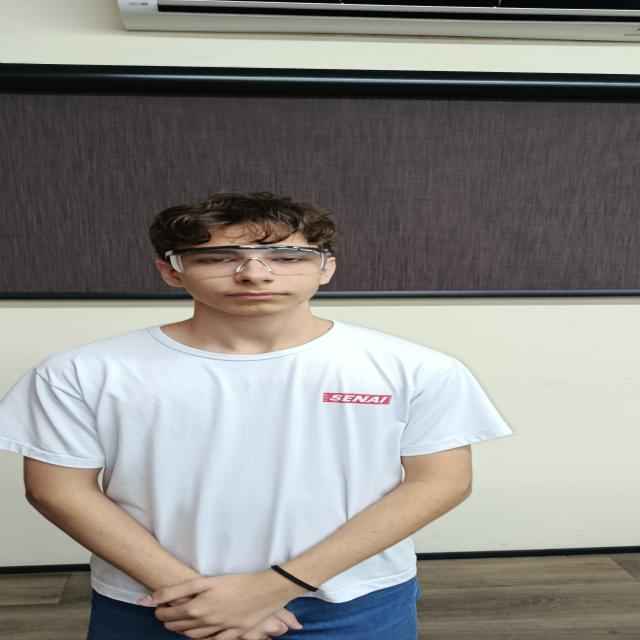oculos-epi: (165, 245, 328, 277)
